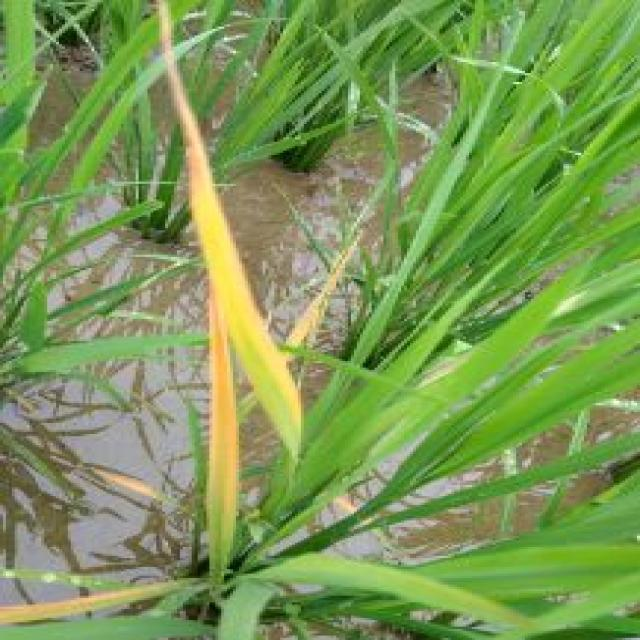Tungro: (150, 58, 316, 547)
